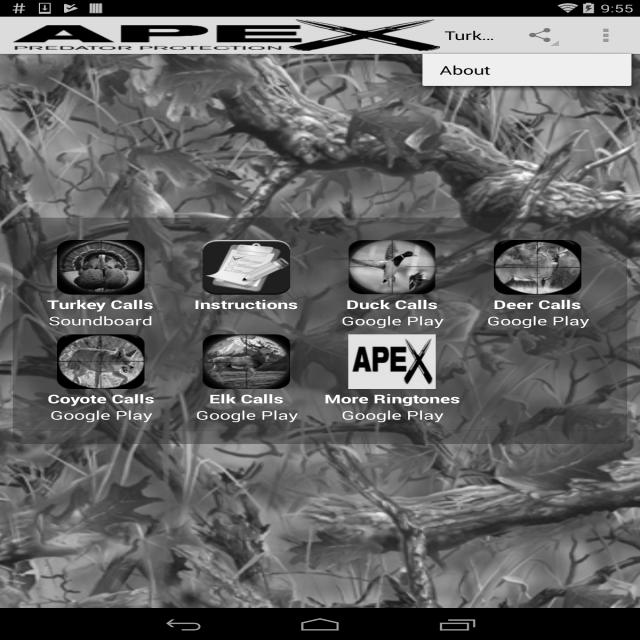ImageButton: (519, 21, 567, 49), (584, 20, 622, 46)
ImageView: (348, 333, 438, 388), (54, 242, 144, 294), (347, 240, 430, 292), (57, 338, 140, 386), (499, 245, 578, 295), (209, 338, 282, 388)
TextView: (319, 394, 466, 425), (42, 389, 160, 421), (486, 298, 593, 330), (194, 394, 304, 421), (9, 42, 290, 52), (188, 297, 316, 312), (437, 62, 495, 78), (438, 27, 497, 42)
